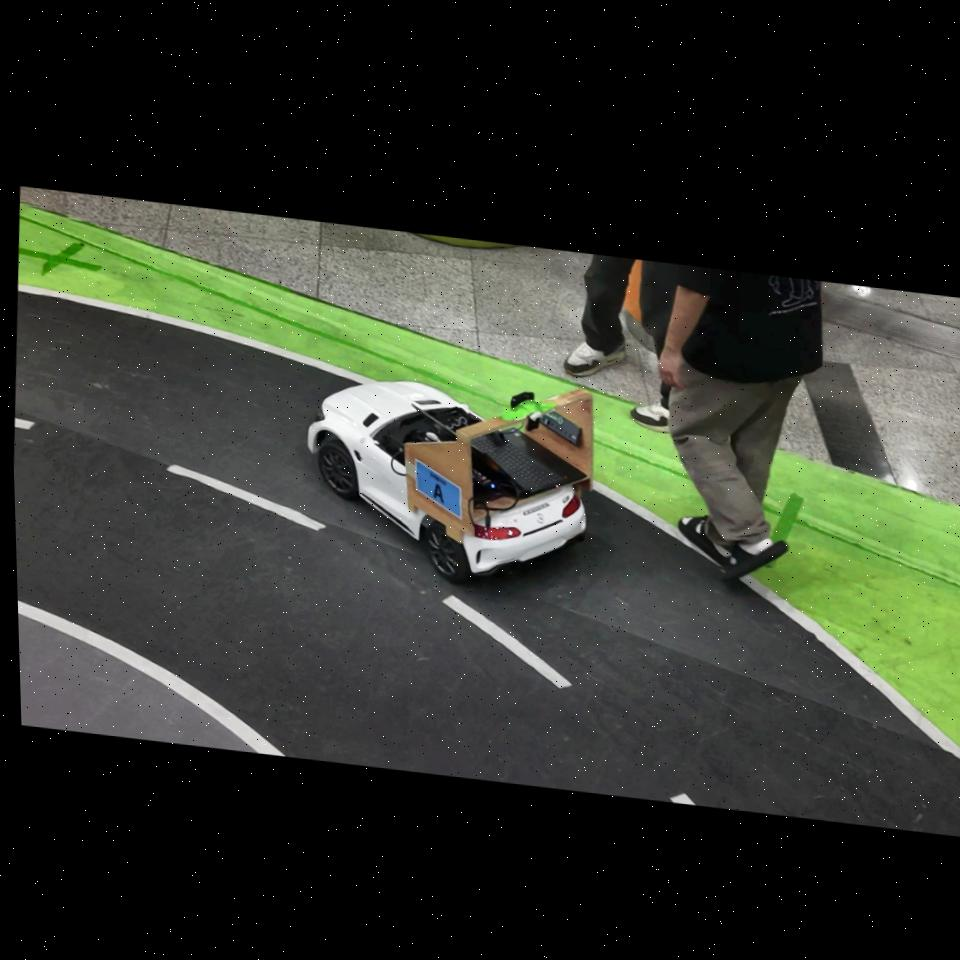broken_line: (443, 596, 573, 689), (167, 465, 327, 532), (669, 793, 696, 805), (15, 418, 35, 430)
